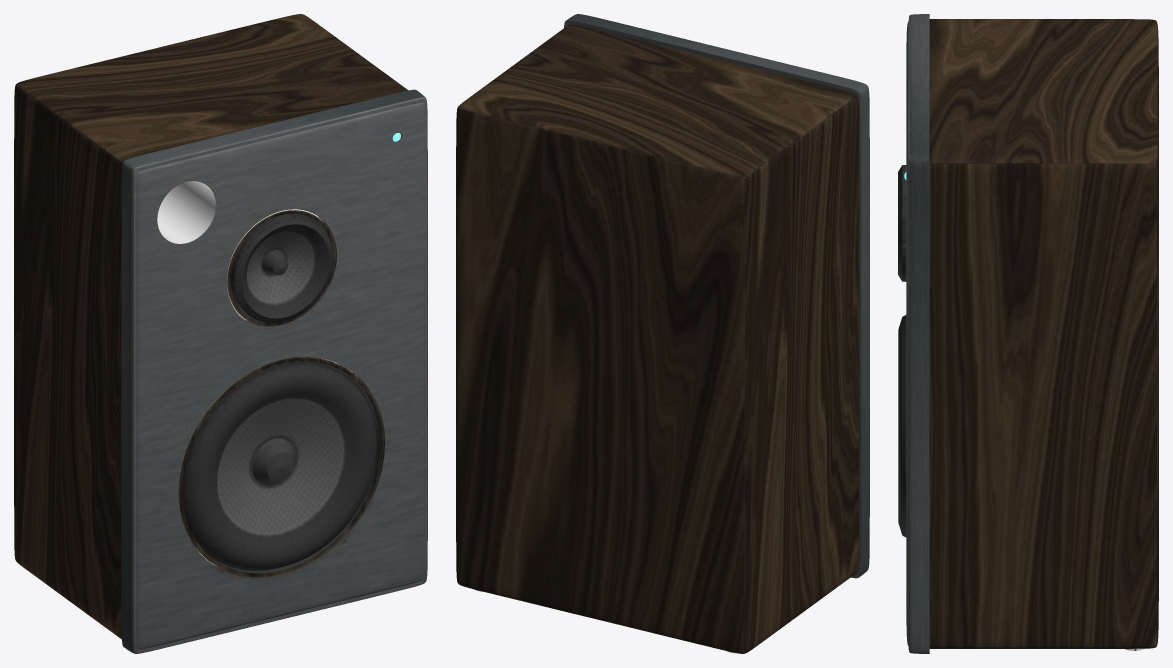
File: speakers-studio.glb
The picture shows the model from 3 angles, left to right: view 1: azimuth 30°, elevation 25°; view 2: azimuth 150°, elevation 25°; view 3: azimuth 270°, elevation 25°; orthographic projection.
Visible parts, largest first — view 1: Object_2; view 2: Object_2; view 3: Object_2.
Part boxes in pixels (left/top/right/bottom): Object_2: left=14, top=14, right=427, bottom=653; Object_2: left=456, top=14, right=869, bottom=653; Object_2: left=898, top=14, right=1158, bottom=653.
Size of the model in its own units: 1.1 by 1.73 by 0.8198.
1 material, 1 textured.
